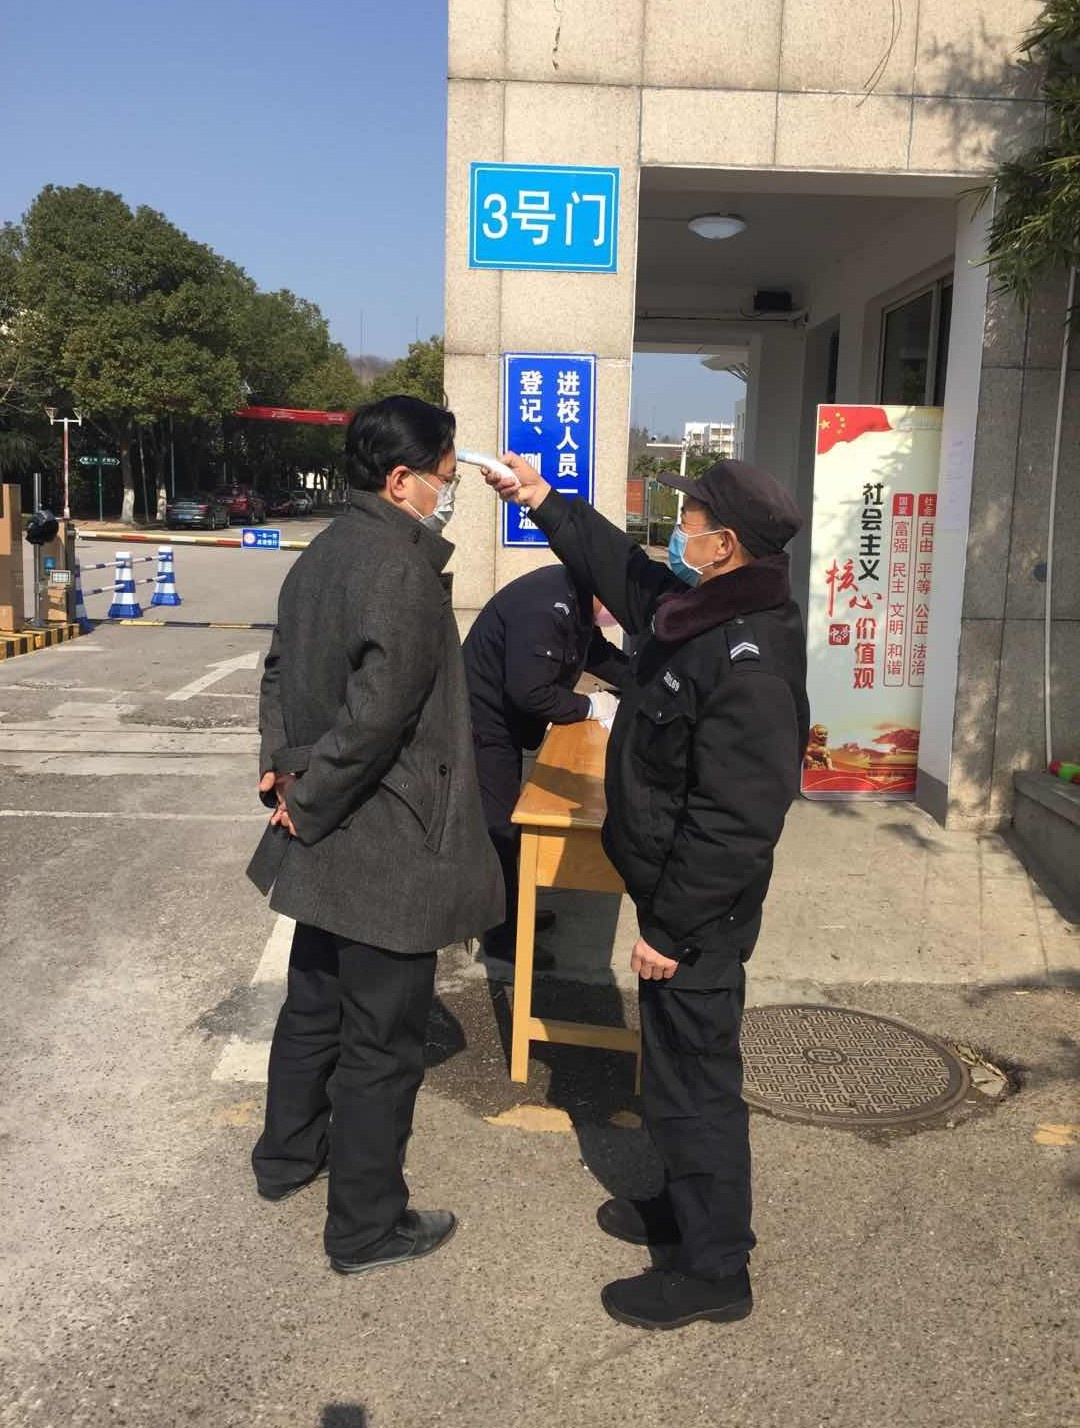correctlyWear: (664, 490, 735, 591), (385, 443, 463, 530)
